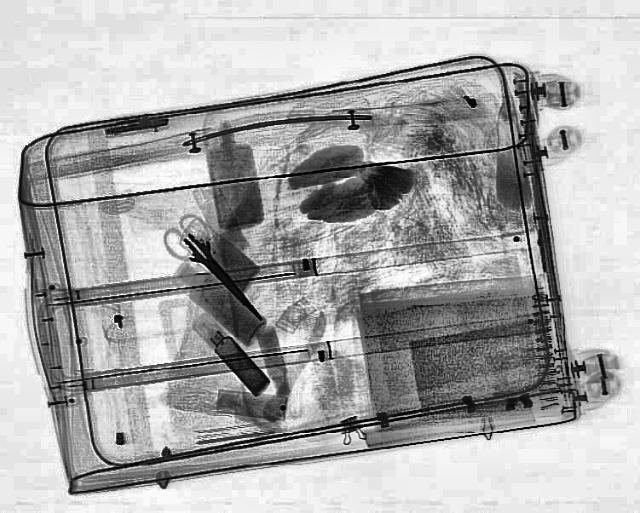Knife: (170, 227, 274, 325)
